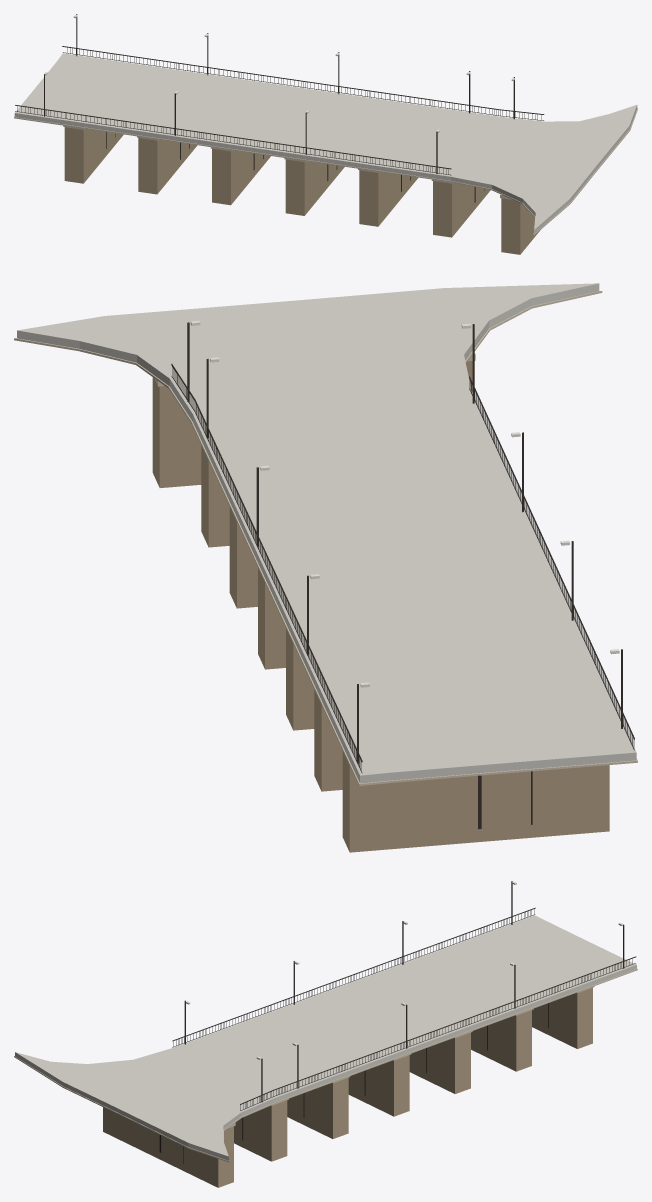
File: schleusenbruecke.glb
3 views of the same model, one above another, from view 1: azimuth 30°, elevation 25°; view 2: azimuth 150°, elevation 25°; view 3: azimuth 270°, elevation 25° (orthographic). The views are drawn at different scales.
Visible parts, largest first — view 1: schleusenbruecke_lod0; view 2: schleusenbruecke_lod0; view 3: schleusenbruecke_lod0.
Boxes of the visible parts, <box> form: schleusenbruecke_lod0: <box>14,14,637,254</box>; schleusenbruecke_lod0: <box>14,283,637,852</box>; schleusenbruecke_lod0: <box>14,881,637,1187</box>.
Size of what is drawn, in the model's own units: 71.65 by 15 by 77.99.
